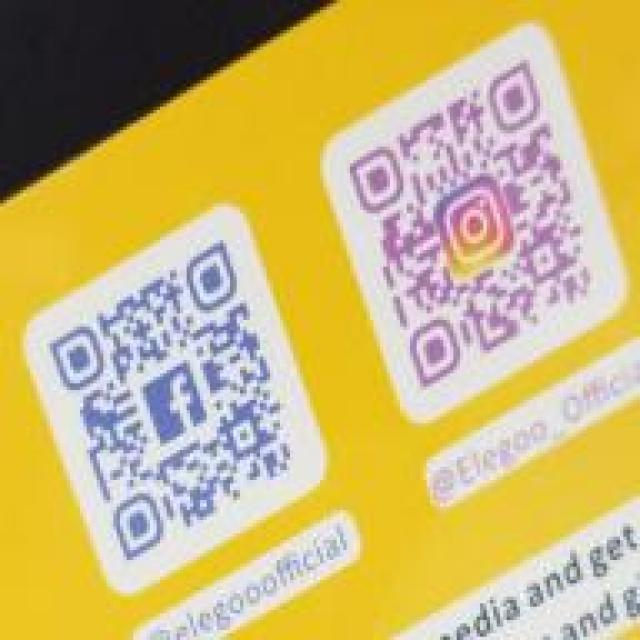qr_code: (349, 59, 595, 390), (49, 240, 293, 561)
